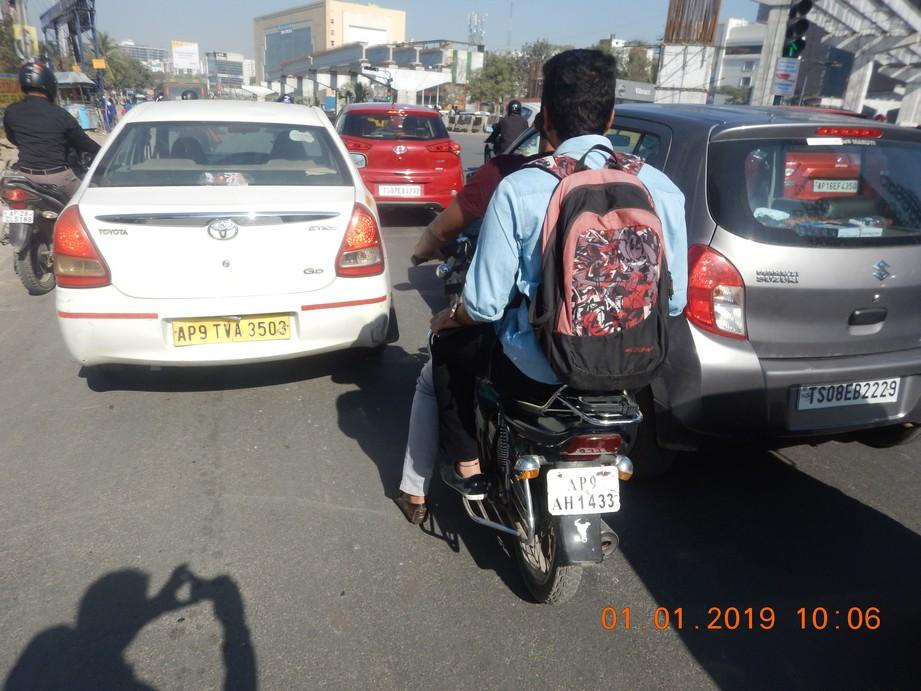plate: (546, 471, 623, 514), (2, 210, 35, 225)
